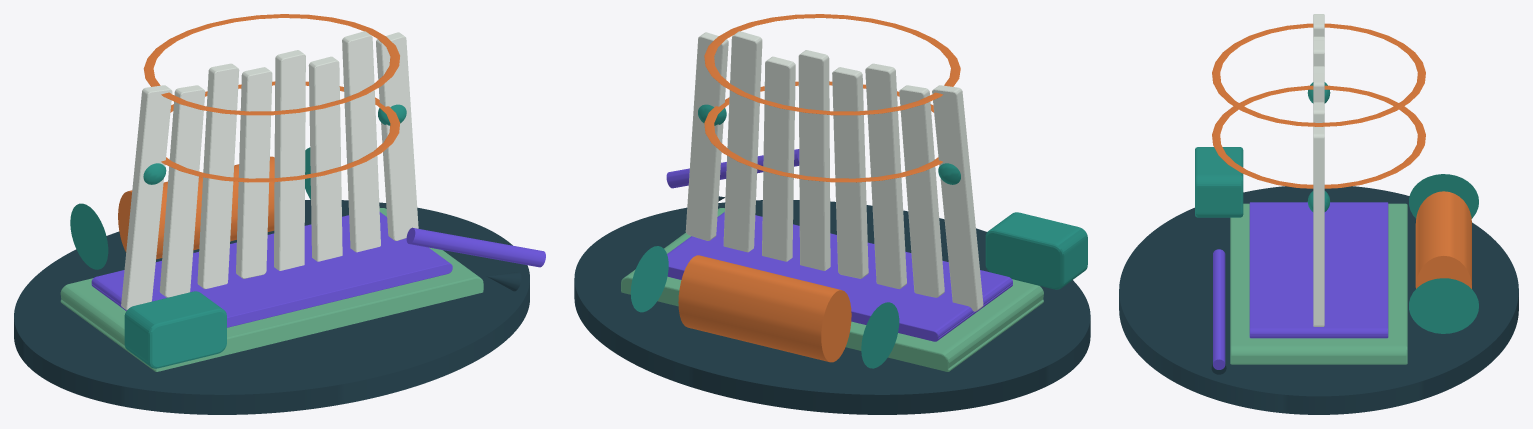
Rendered from 0739_先秦图鉴_夯筑技术.glb.
The picture shows the model from 3 angles, left to right: view 1: azimuth 30°, elevation 25°; view 2: azimuth 150°, elevation 25°; view 3: azimuth 270°, elevation 25°; orthographic projection. The views are drawn at different scales.
Parts seen in each view (by area): view 1: card_0739; view 2: card_0739; view 3: card_0739.
Boxes of the visible parts, x1,y1,x2,y2 form: card_0739: (14, 14, 545, 414); card_0739: (574, 14, 1090, 414); card_0739: (1119, 14, 1518, 414).
Size of the model in its own units: 1.87 by 1 by 1.49.
